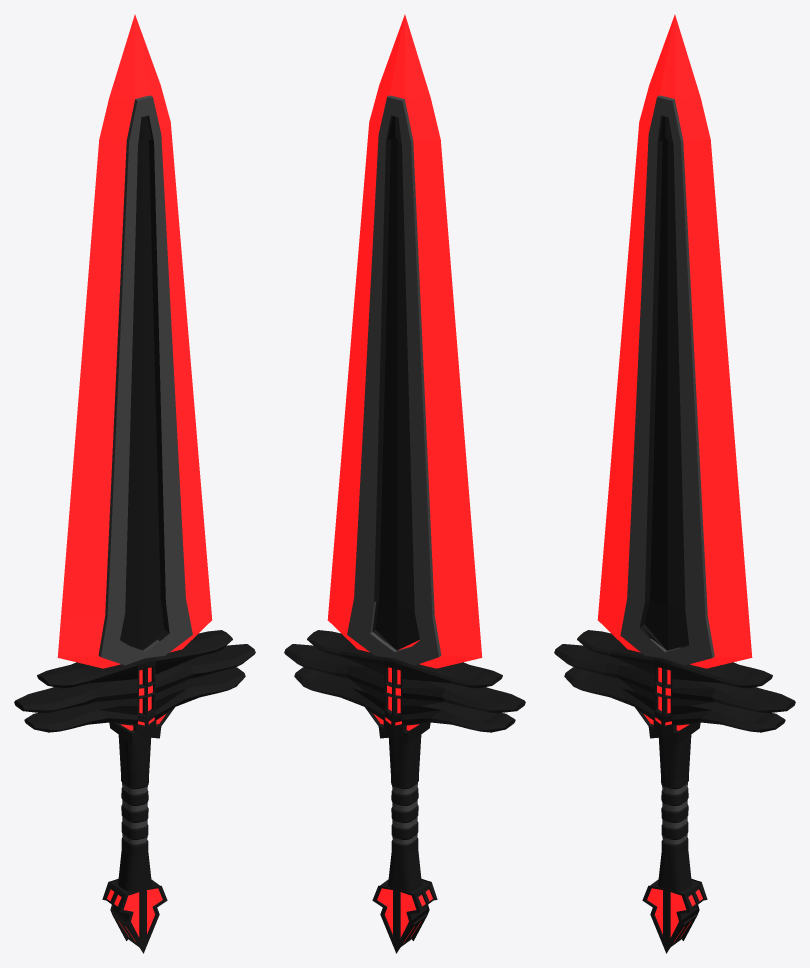
Rendered from Sword.fbx.
3 renders of one model, left to right at view 1: azimuth 30°, elevation 25°; view 2: azimuth 150°, elevation 25°; view 3: azimuth 330°, elevation 25°, orthographic.
Visible parts, largest first — view 1: Sword_Red; view 2: Sword_Red; view 3: Sword_Red.
Boxes of the visible parts, x1,y1,x2,y2 form: Sword_Red: (14,14,255,953); Sword_Red: (284,14,525,953); Sword_Red: (554,14,795,953).
Bounding box in the file's own units: 39.09 × 150 × 7.18.
